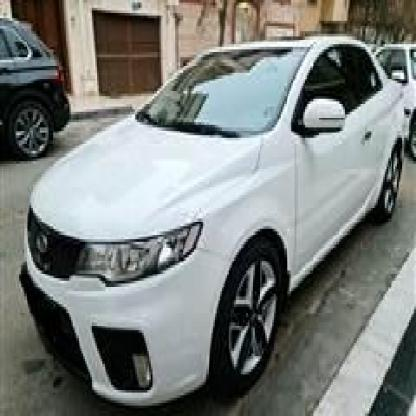Car: (14, 23, 392, 400), (0, 0, 68, 169), (381, 26, 416, 138)
